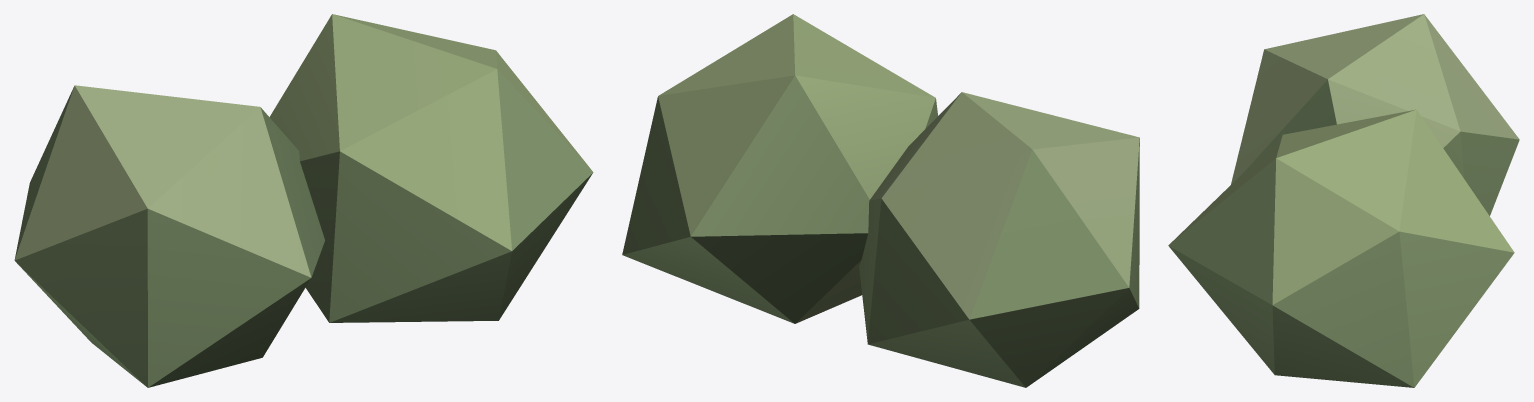
File: rbush.lod2.glb
3 views of the same model, side by side, from view 1: azimuth 30°, elevation 25°; view 2: azimuth 150°, elevation 25°; view 3: azimuth 270°, elevation 25° (orthographic). The views are drawn at different scales.
Bounding box in the file's own units: 2.12 × 1.08 × 1.45.
